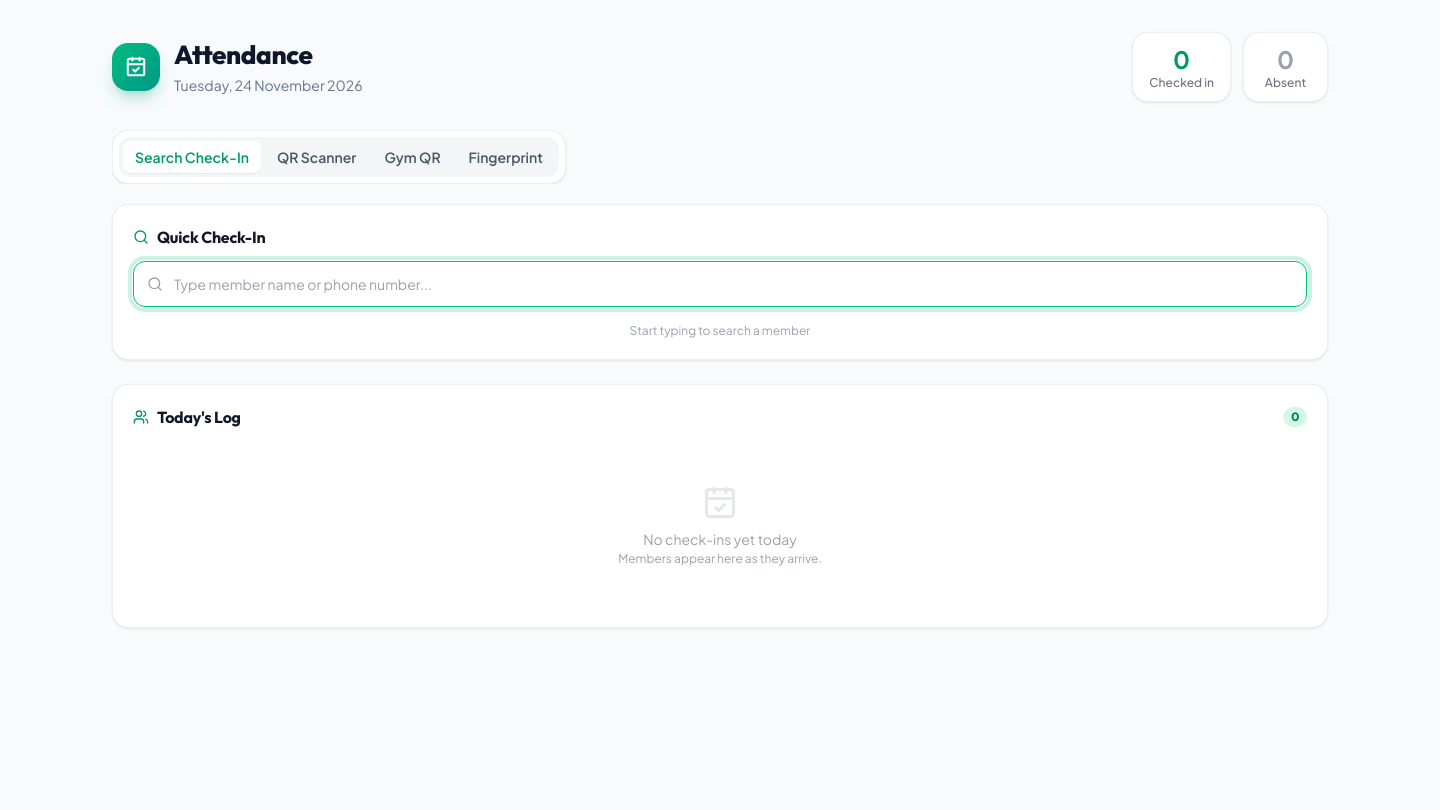
Scenario: Attendance — search check-in › searches the server, not a roster held in the page
Type "ali" into the search field named "Search member to check in" at (720, 284), box [133,261,1307,307]
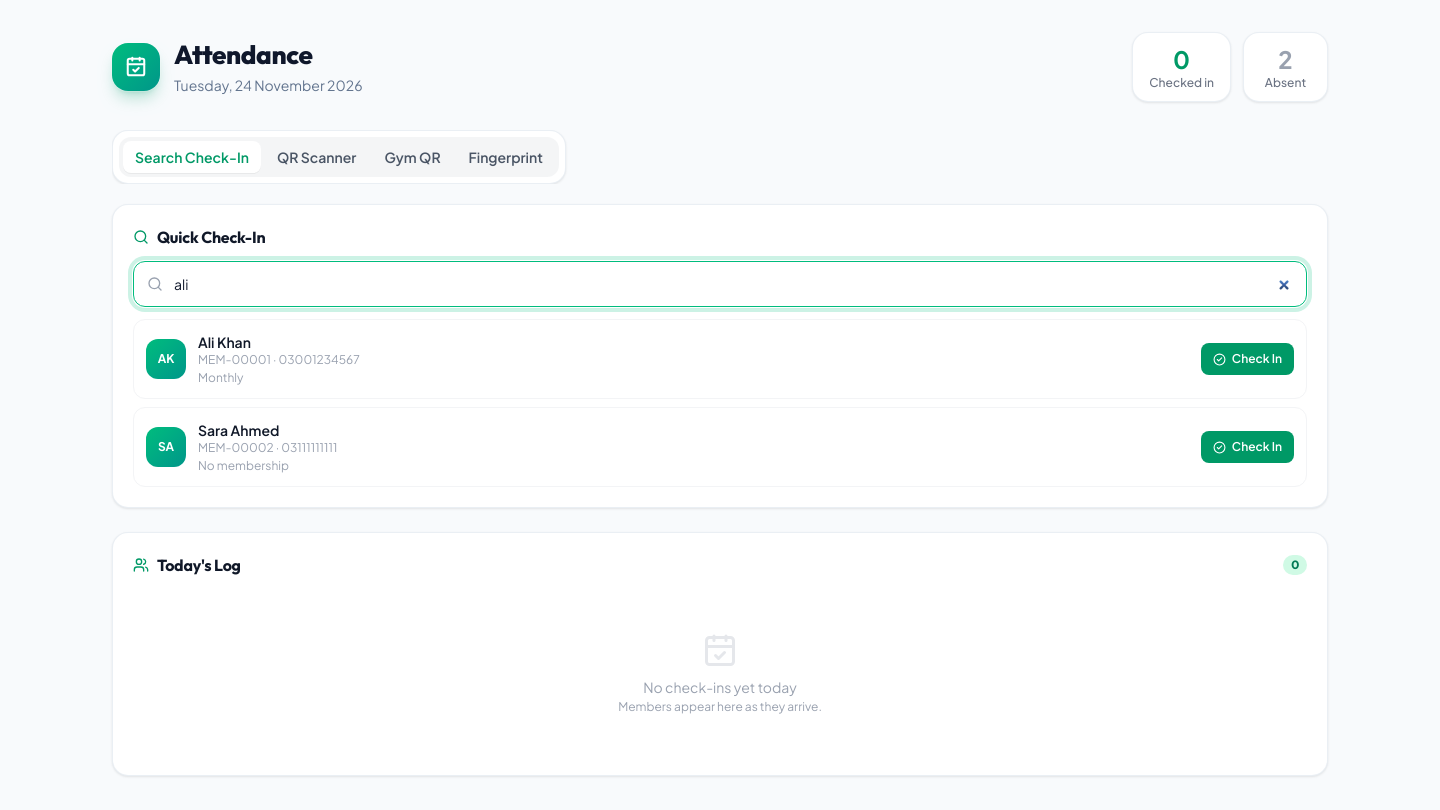
Result: the text "Ali Khan" is shown at [198,333,251,351]
